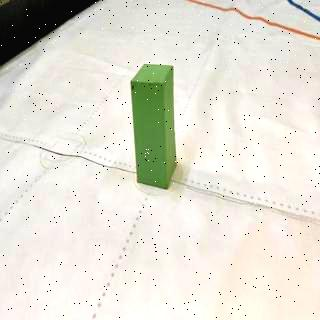greenbox: (130, 63, 178, 188)
